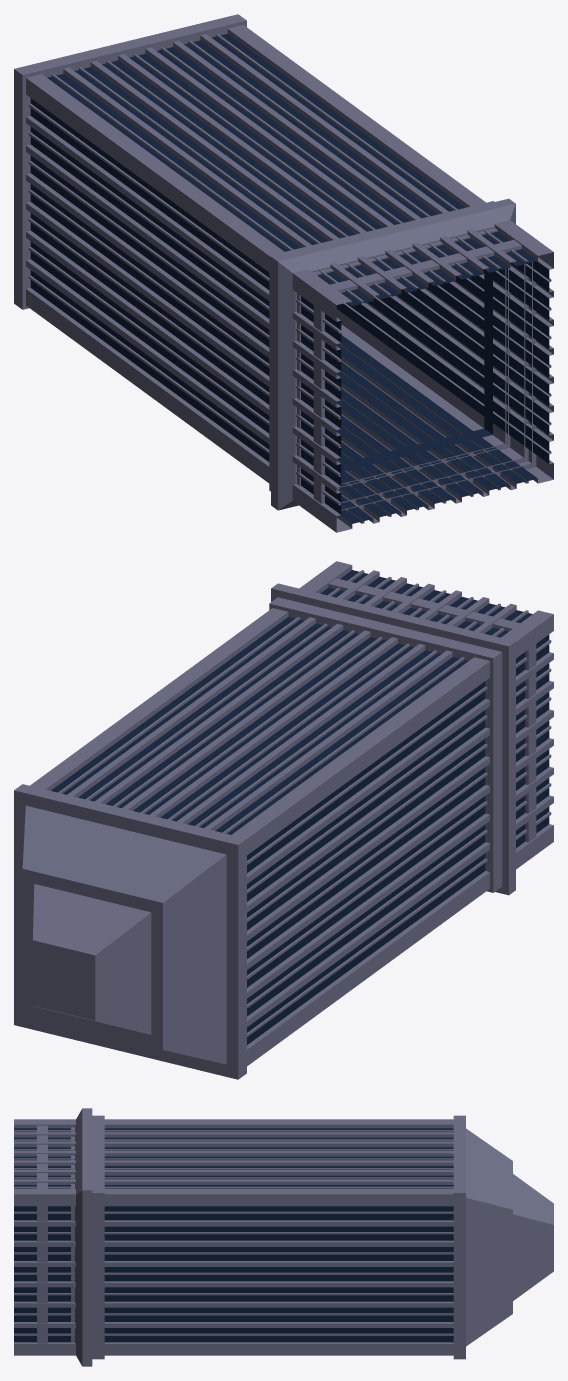
Rendered from Skyscr_01_C.dae.
3 renders of one model, top to bottom at view 1: azimuth 30°, elevation 25°; view 2: azimuth 150°, elevation 25°; view 3: azimuth 270°, elevation 25°, orthographic. The views are drawn at different scales.
Visible parts, largest first — view 1: Skyscr_01_C; view 2: Skyscr_01_C; view 3: Skyscr_01_C.
Part boxes in pixels (x1,y1,x2,y2): Skyscr_01_C: (14,14,553,532); Skyscr_01_C: (14,561,553,1079); Skyscr_01_C: (14,1108,553,1366).
Size of the model in its own units: 0.3722 by 1.03 by 0.3722.
